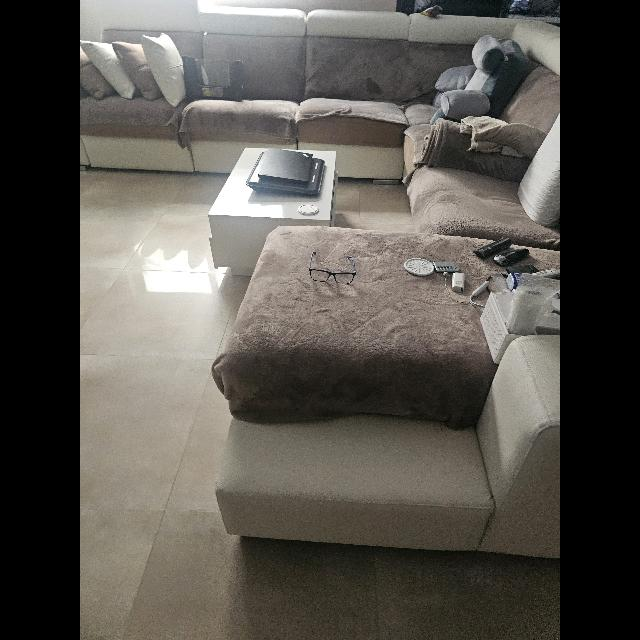glasses: (308, 252, 356, 284)
